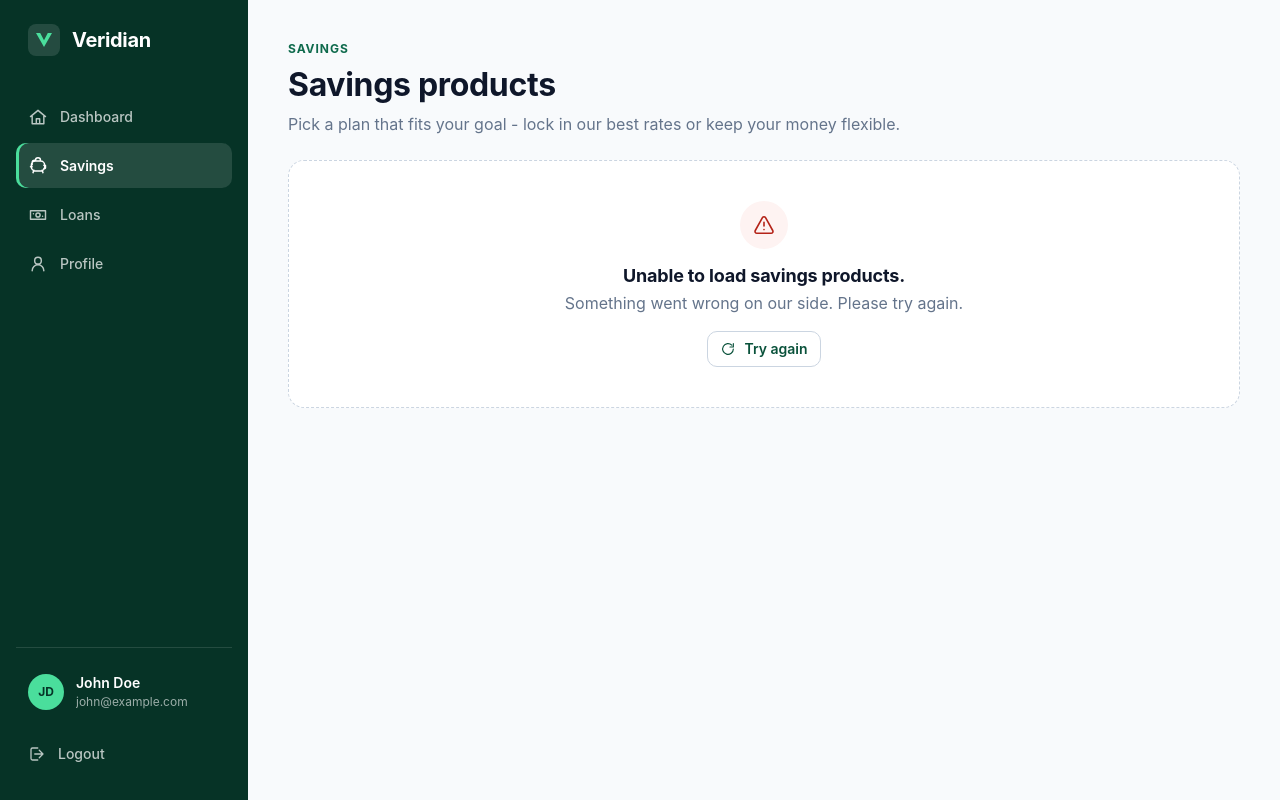
Test: application flows › shows an error state with retry when a product API fails
Expected: the message shows "Unable to load savings products.", [623,265,905,286]
Click the button "Try again" at x=764, y=349, box [708,331,821,367]
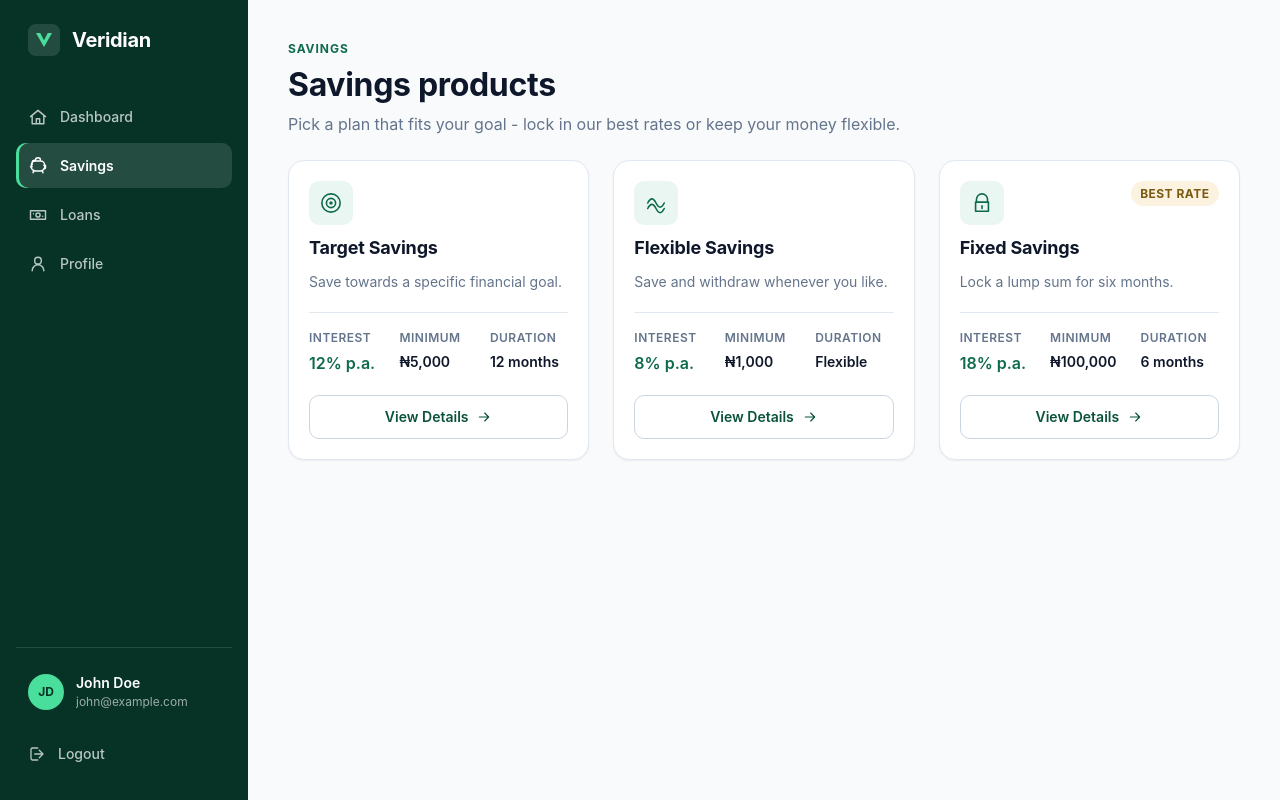
Expected: the link named "view details for fixed savings" is shown, [960,395,1219,439]
